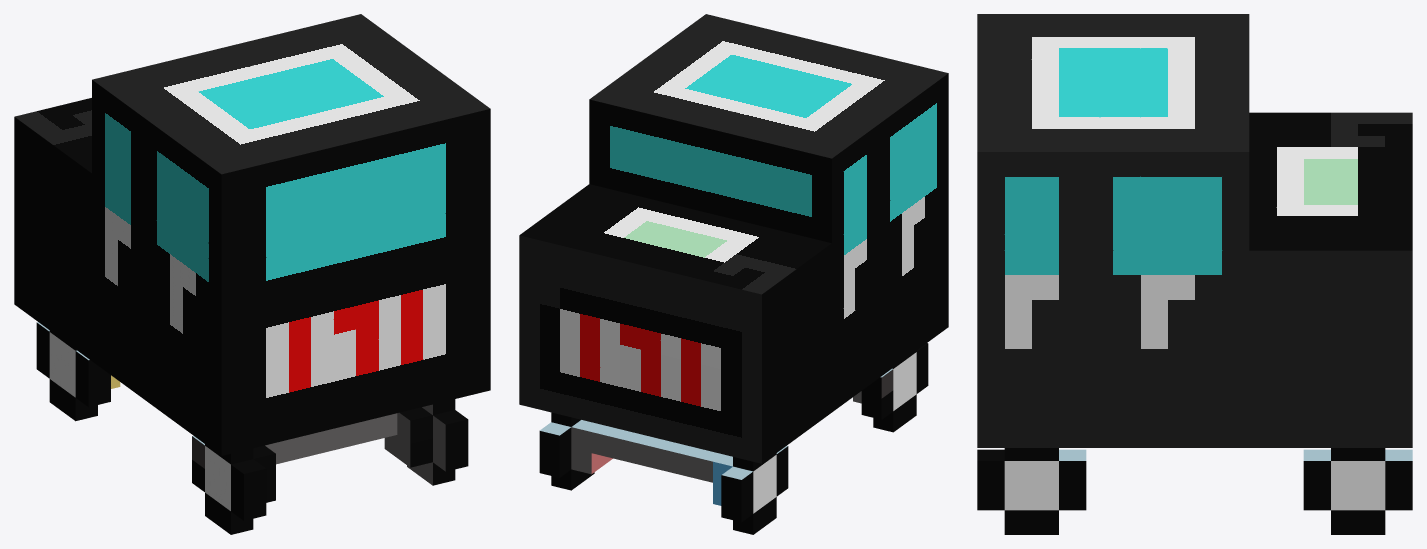
Rendered from parkedcarmodel.dae.
3 renders of one model, left to right at view 1: azimuth 30°, elevation 25°; view 2: azimuth 150°, elevation 25°; view 3: azimuth 270°, elevation 25°, orthographic. The views are drawn at different scales.
Visible parts, largest first — view 1: Body, cube (×13); view 2: Body, cube (×18); view 3: Body, cube (×22).
Boxes of the visible parts, box(x1,y1,x2,y2) form: Body: box(14, 98, 490, 455); cube (×13): box(62, 14, 490, 534); Body: box(519, 158, 948, 463); cube (×18): box(539, 14, 948, 534); Body: box(977, 112, 1412, 447); cube (×22): box(977, 14, 1412, 534).
Bounding box in the file's own units: 0.75 × 1 × 1.
1 material, 1 textured.
